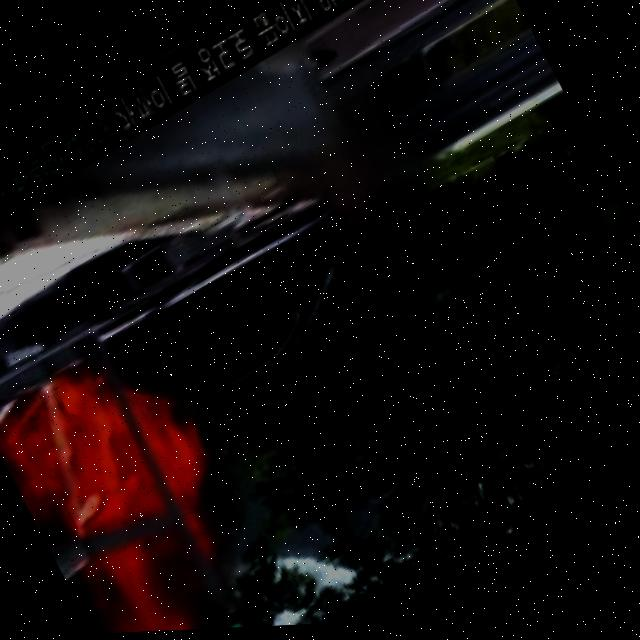Fire: (0, 310, 301, 640)
